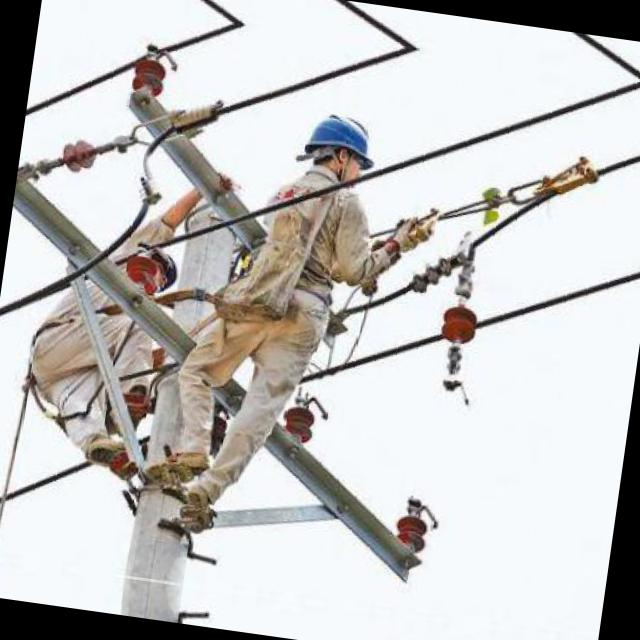helmet: (287, 99, 383, 198)
